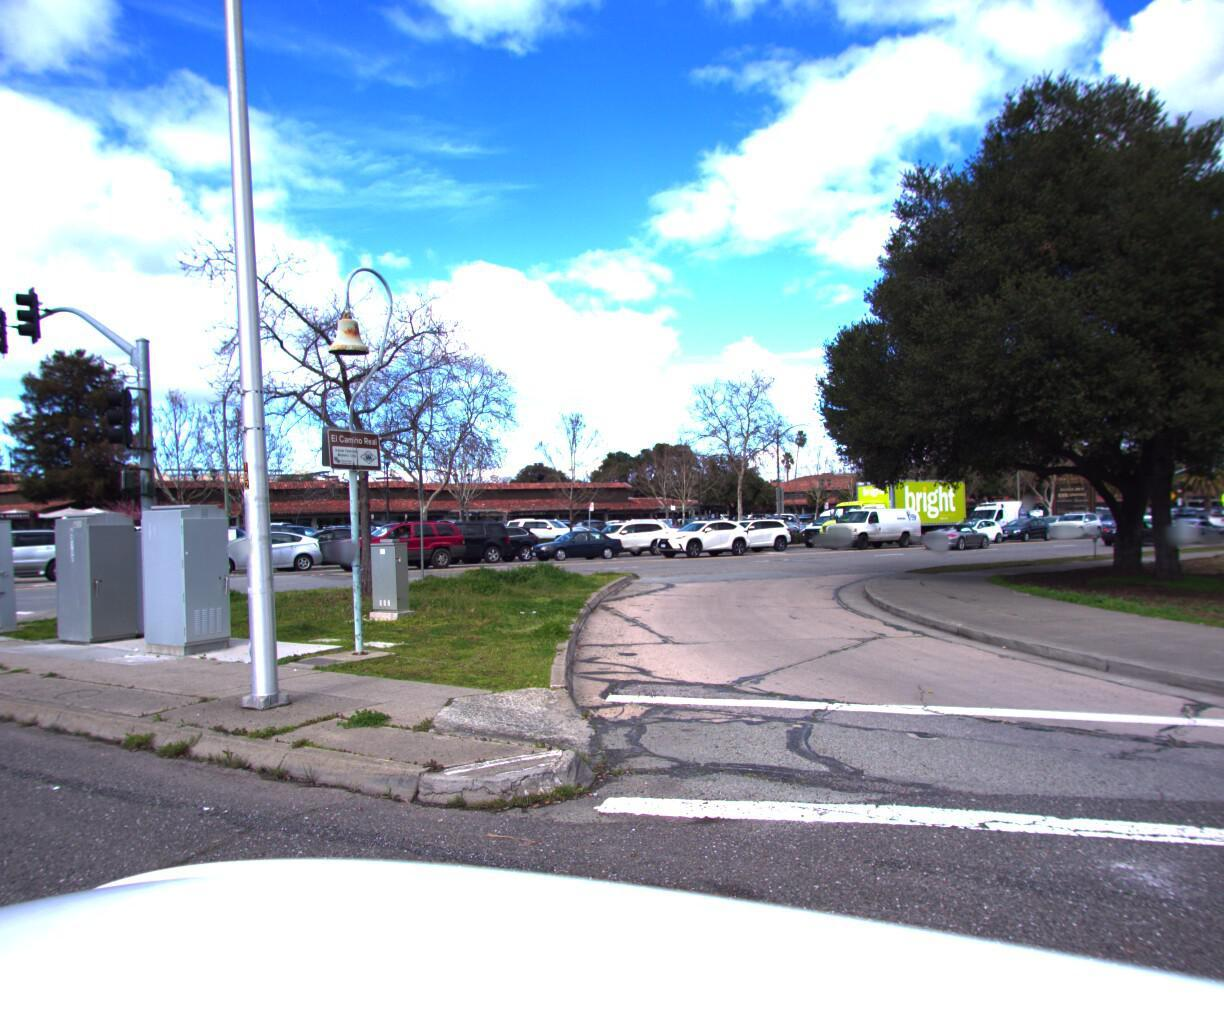car: (320, 516, 470, 575), (383, 517, 521, 569), (184, 528, 329, 577), (255, 527, 384, 574), (815, 502, 921, 551), (644, 515, 753, 560), (430, 527, 539, 567), (521, 523, 632, 560), (575, 518, 674, 558), (698, 516, 795, 553), (501, 514, 590, 544), (795, 509, 869, 545), (956, 497, 1031, 530), (933, 513, 1005, 544), (918, 521, 991, 550), (1096, 518, 1165, 547), (1043, 507, 1104, 538), (1159, 517, 1223, 545), (988, 520, 1053, 547), (1199, 506, 1224, 540)
truck: (802, 481, 970, 555)
